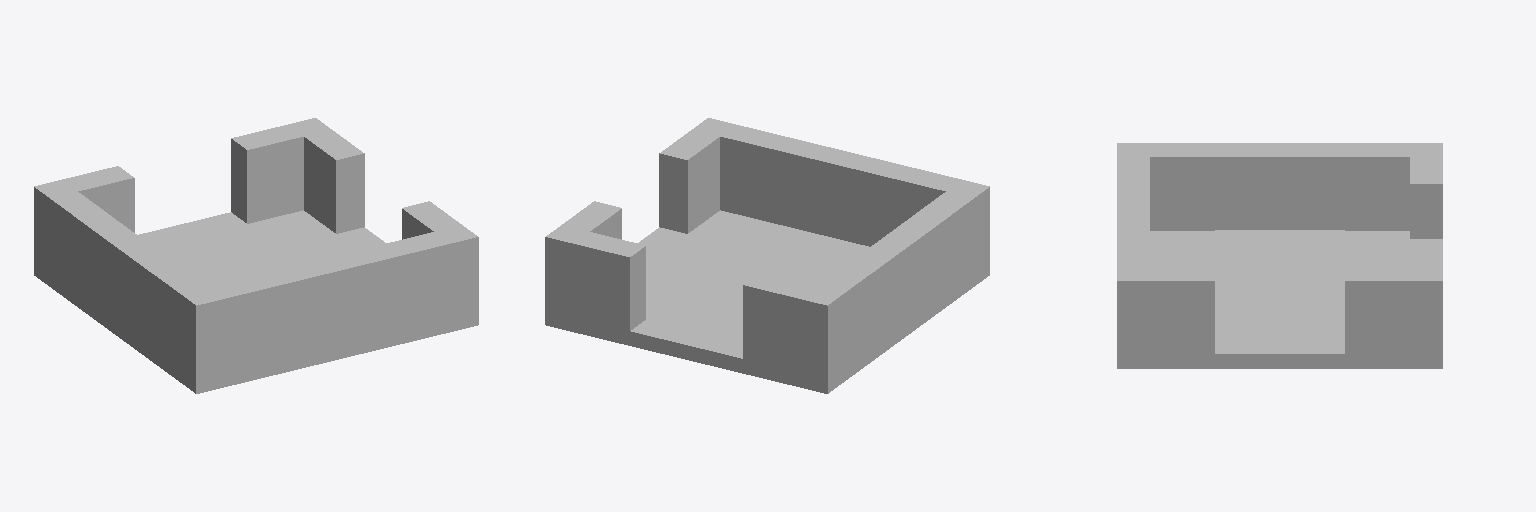
File: CORNERTEST.obj
3 views of the same model, side by side, from view 1: azimuth 30°, elevation 25°; view 2: azimuth 150°, elevation 25°; view 3: azimuth 270°, elevation 25° (orthographic).
Parts seen in each view (by area): view 1: Corner; view 2: Corner; view 3: Corner.
Boxes of the visible parts, x1,y1,x2,y2 form: Corner: [34, 118, 478, 393]; Corner: [545, 118, 989, 393]; Corner: [1117, 143, 1442, 368].
Size of the model in its own units: 40.03 by 12 by 40.